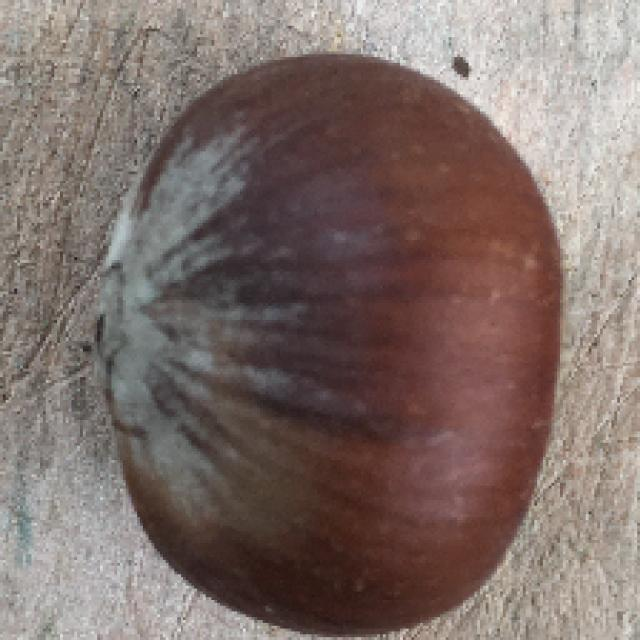qualityHazelnut: (97, 49, 561, 634)
